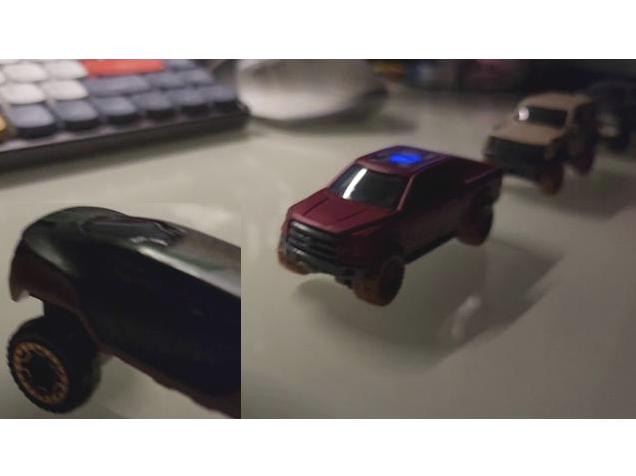toy-car: (0, 203, 241, 419), (273, 143, 507, 309), (481, 89, 603, 197)
